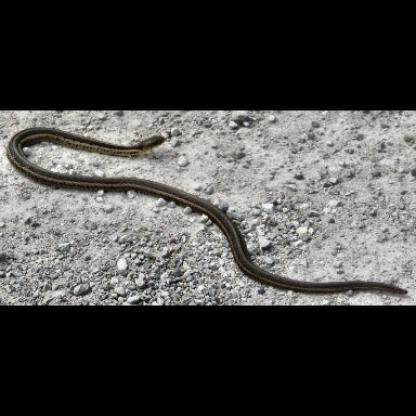Snake: (4, 125, 410, 296)
